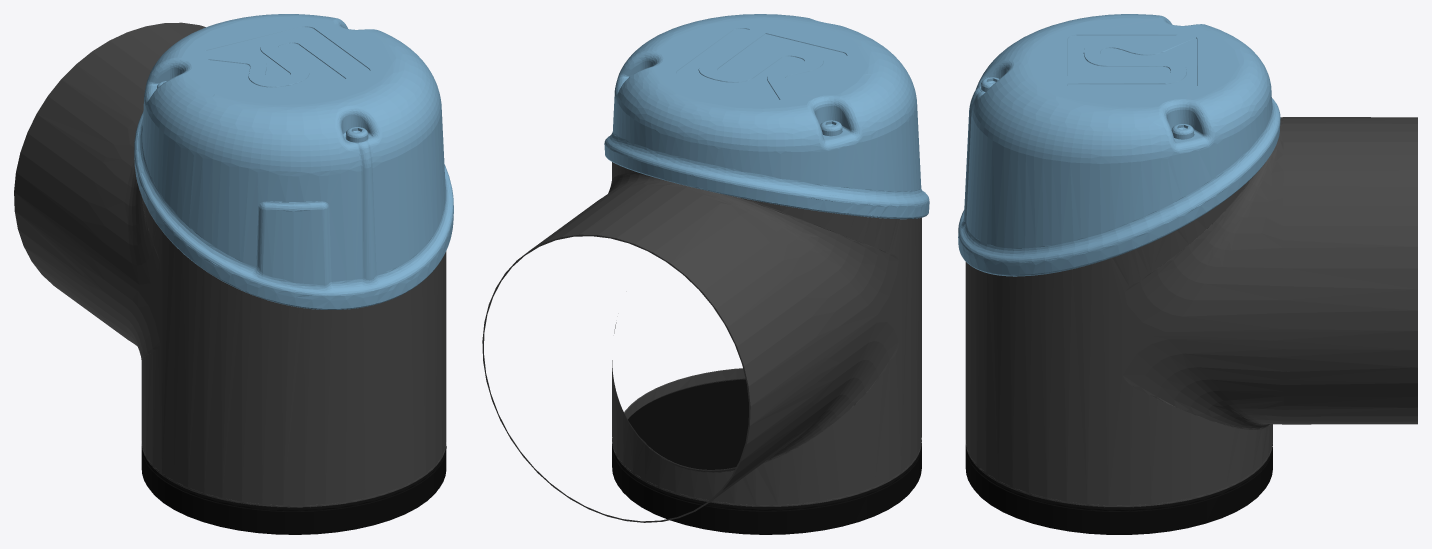
Rendered from Cell01__Robots__R02_RailSystem__R02__Geometry__rail_base__rail_carriage__r02_shoulder_link__r02_upper_arm_link__r02_forearm_link__r02_wrist_1_link.glb.
The picture shows the model from 3 angles, left to right: view 1: azimuth 30°, elevation 25°; view 2: azimuth 150°, elevation 25°; view 3: azimuth 270°, elevation 25°; orthographic projection.
Visible parts, largest first — view 1: /World/Cell01/Robots/R02_RailSystem/R02/Geometry/rail_base/r (×3); view 2: /World/Cell01/Robots/R02_RailSystem/R02/Geometry/rail_base/r (×3); view 3: /World/Cell01/Robots/R02_RailSystem/R02/Geometry/rail_base/r (×3).
Boxes of the visible parts, left/top/right/bottom form: /World/Cell01/Robots/R02_RailSystem/R02/Geometry/rail_base/r (×3): left=14, top=14, right=453, bottom=534; /World/Cell01/Robots/R02_RailSystem/R02/Geometry/rail_base/r (×3): left=482, top=14, right=929, bottom=534; /World/Cell01/Robots/R02_RailSystem/R02/Geometry/rail_base/r (×3): left=958, top=14, right=1417, bottom=534.
Size of the model in its own units: 0.0787 by 0.1099 by 0.1122.
